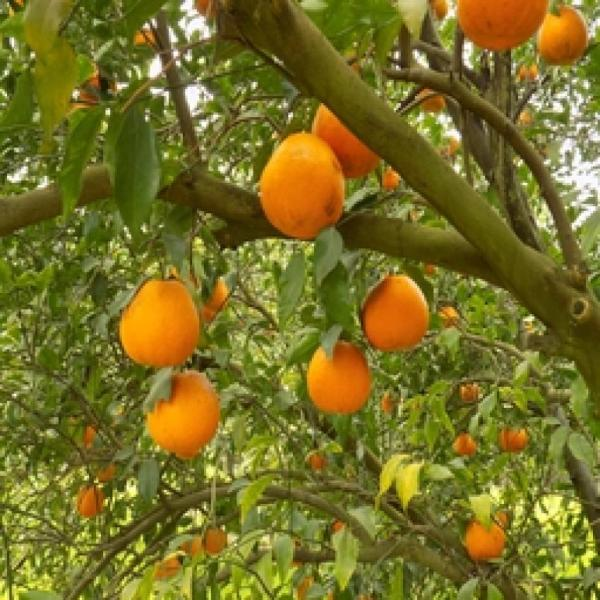Sana: (255, 127, 348, 240), (116, 272, 203, 371), (137, 369, 224, 461), (358, 268, 434, 358), (299, 336, 378, 419), (311, 95, 387, 181), (450, 0, 550, 53), (532, 0, 588, 71), (463, 516, 506, 562), (148, 550, 186, 583), (496, 423, 530, 459), (69, 485, 106, 517), (202, 274, 230, 310), (74, 422, 104, 451), (200, 526, 229, 556), (300, 449, 330, 476), (179, 530, 205, 561), (450, 432, 478, 460), (95, 458, 121, 485), (380, 391, 406, 416), (197, 302, 218, 327)
